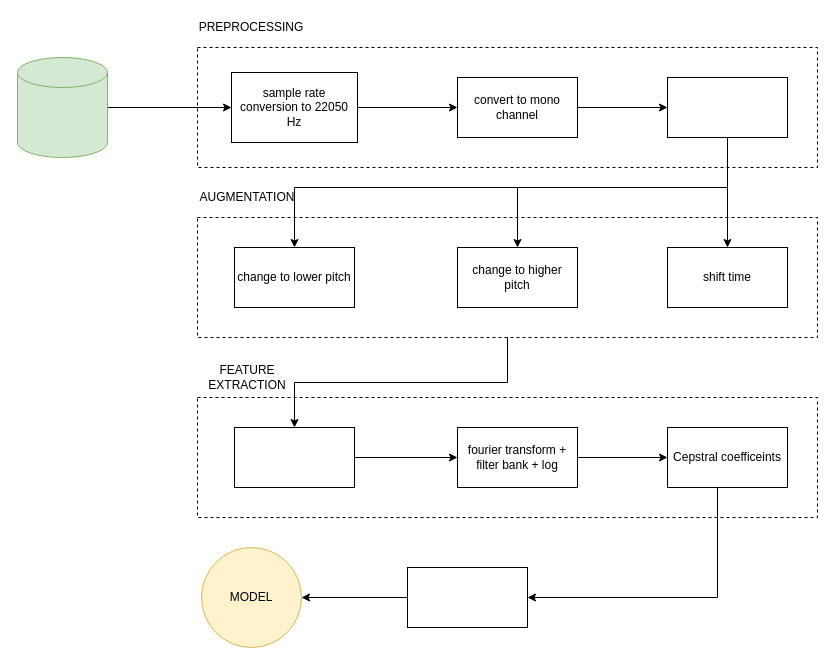
This 835x665 diagram has some shape labels left out. Each missing label, with the box of its shape:
.wav files dataset: (16, 56, 108, 158)
break signal: (234, 426, 354, 488)
normalize the bit depth values: (666, 76, 788, 138)
prepare X (features) and y (classID): (406, 566, 528, 628)
